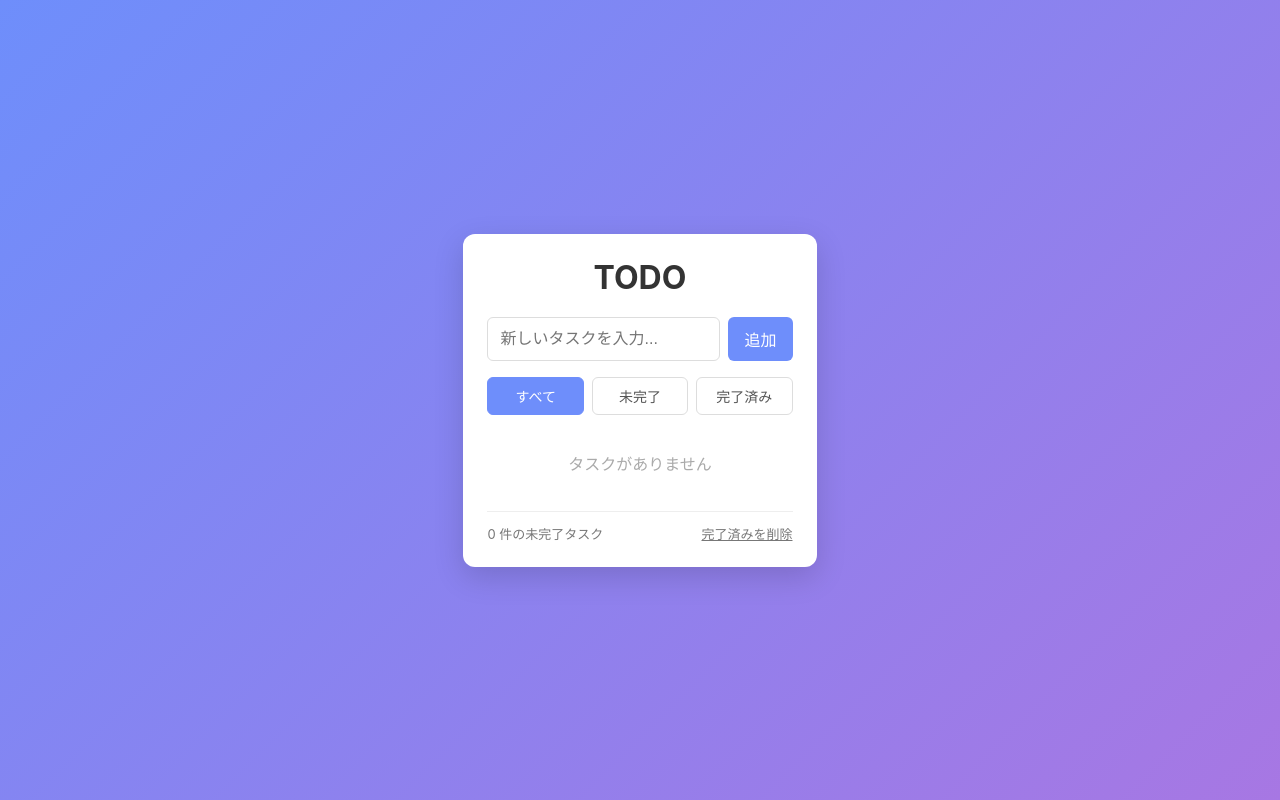
Scenario: TODOアプリ › 完了済みのチェックを外すと未完了に戻る
The image size is (1280, 800).
In the field with placeholder "新しいタスクを入力...": [604, 338] box [488,316,720,360], type "部屋の掃除"
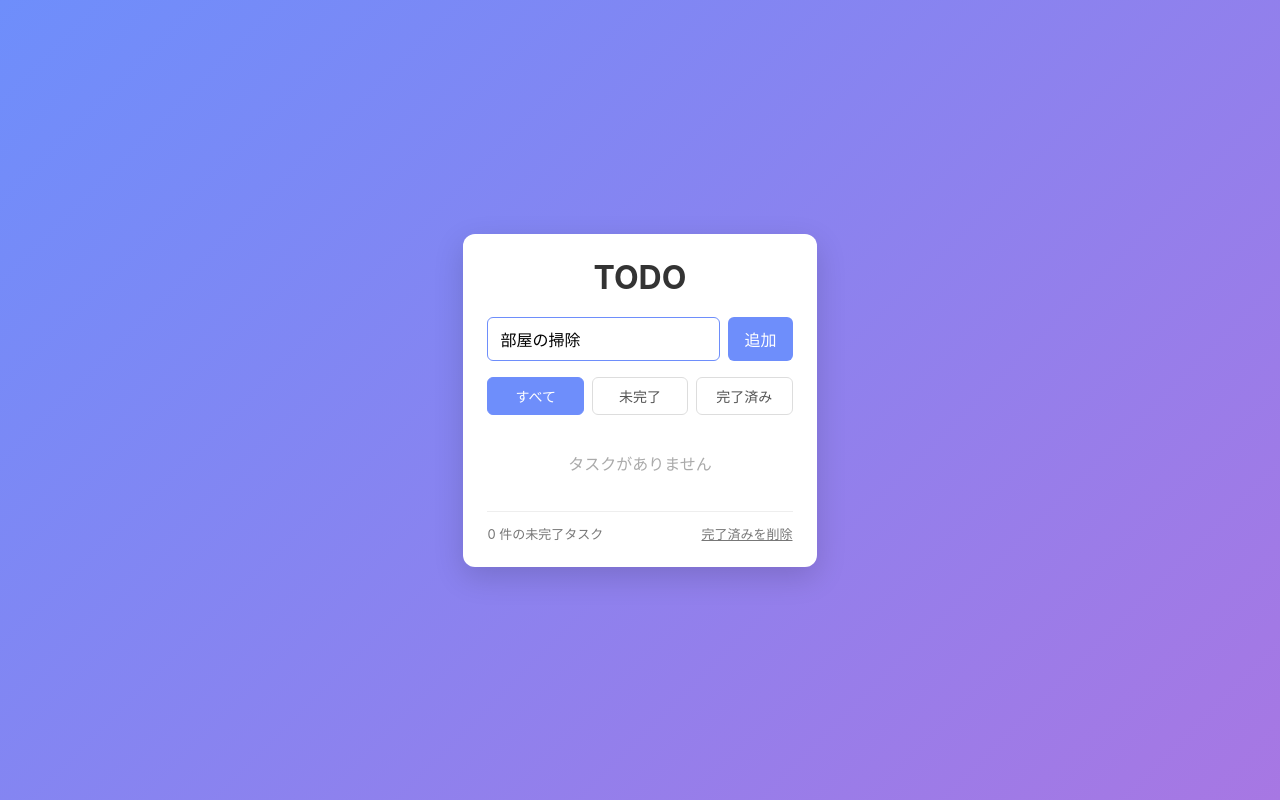
Click the button "追加": [760, 338] box [728,316,792,360]
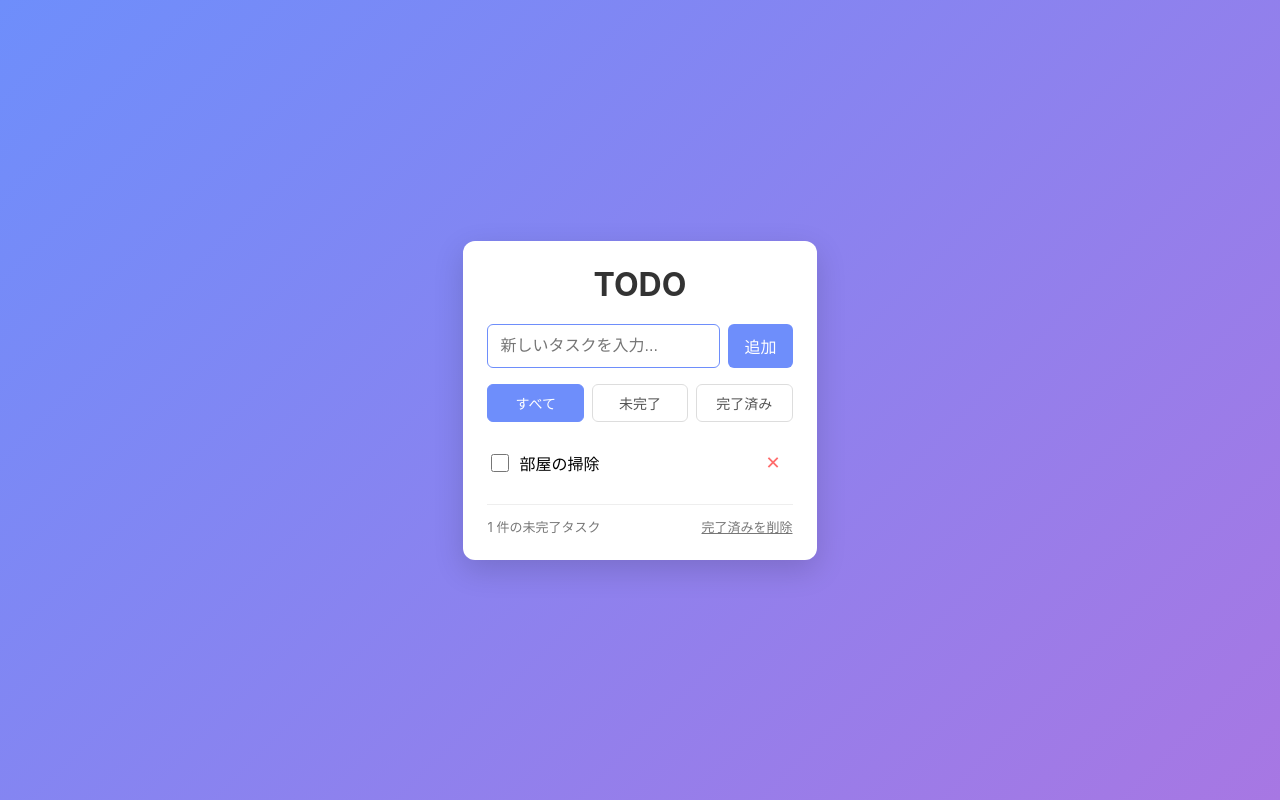
Click the checkbox: [500, 462] box [492,454,510,472]
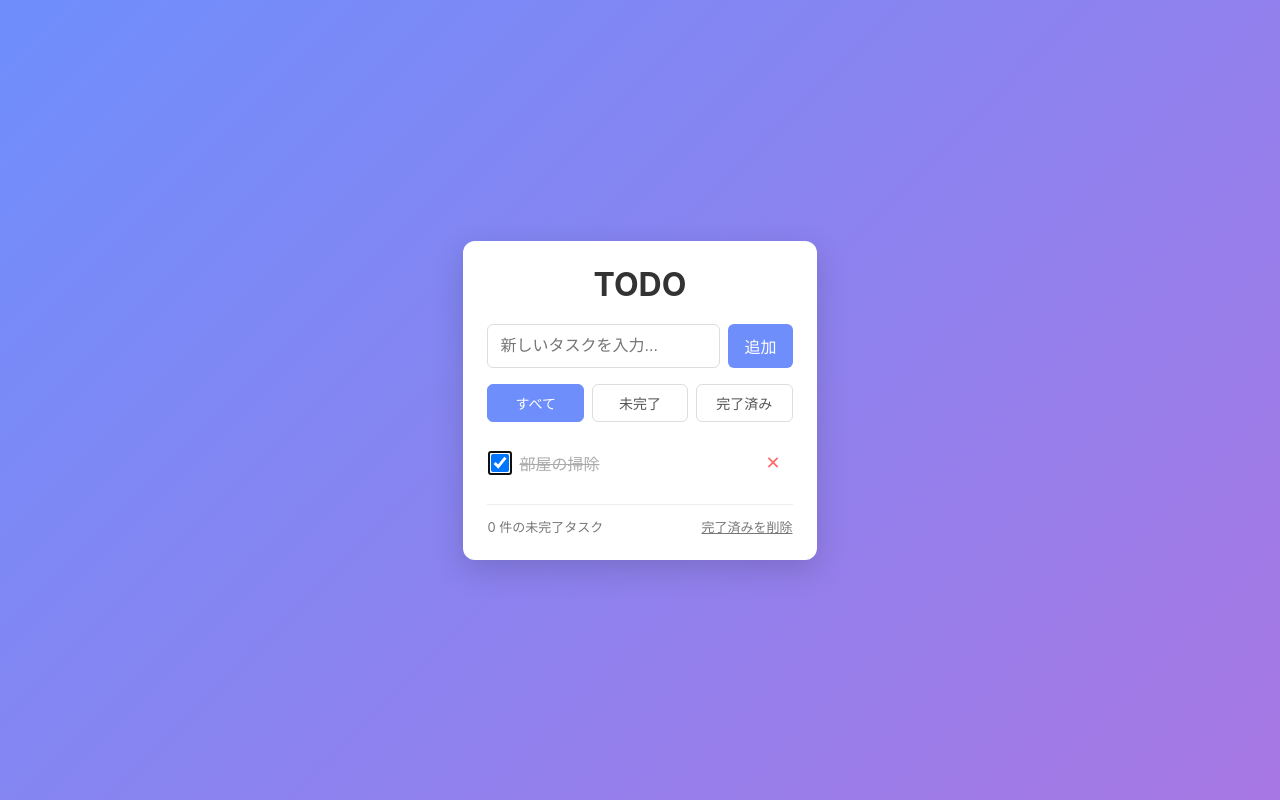
Check: the checkbox is checked
Click the checkbox: [500, 462] box [492,454,510,472]
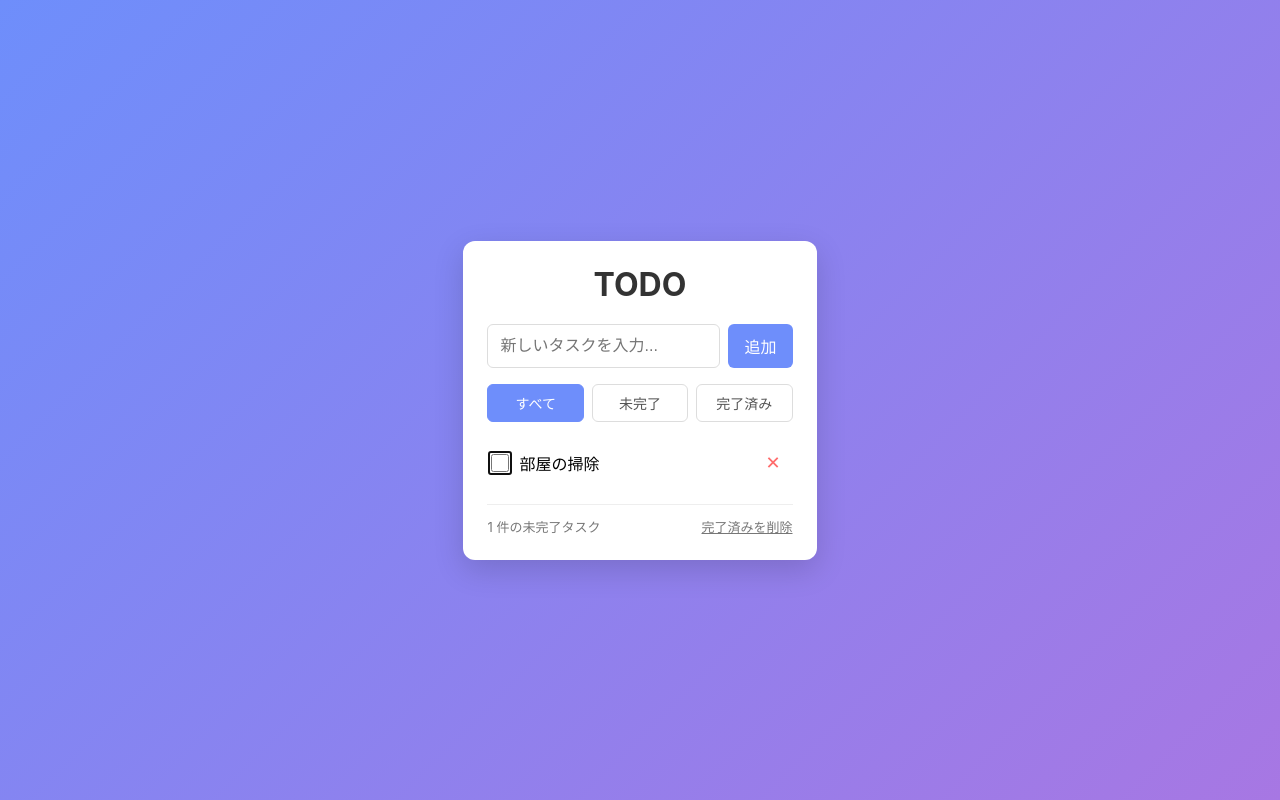
Check: the checkbox is not checked, box [492,454,510,472]
Check: the text "1 件の未完了タスク" is shown, box [488,516,600,536]
